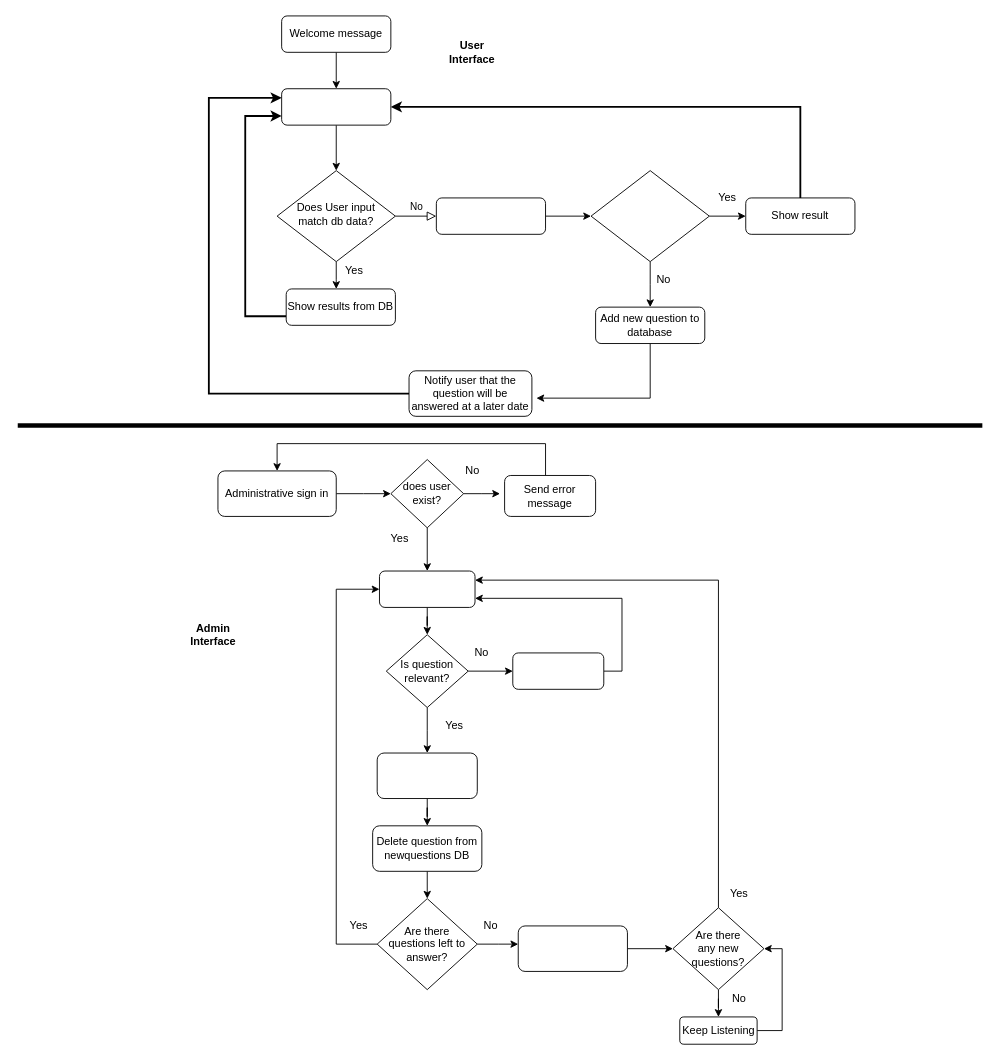
The diagram is 1001 pixels wide and 1060 high, and some of its shapes have lost their labels. Here are the shapes that lost their labels. From the top down, the centre of each, then its label:
point 336,106: Ask user for input
point 490,215: show nearest result
point 649,216: Is this what user was looking for?
point 427,588: render admin form
point 558,670: Send question to irrelevant DB
point 426,775: Send question and answer to questions DB
point 572,948: Set listener to listen for new questions in database
